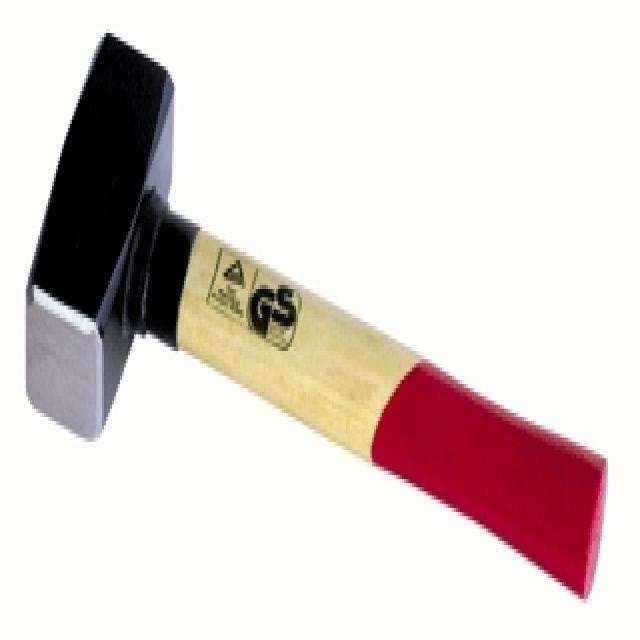hammer: (9, 0, 613, 621)
